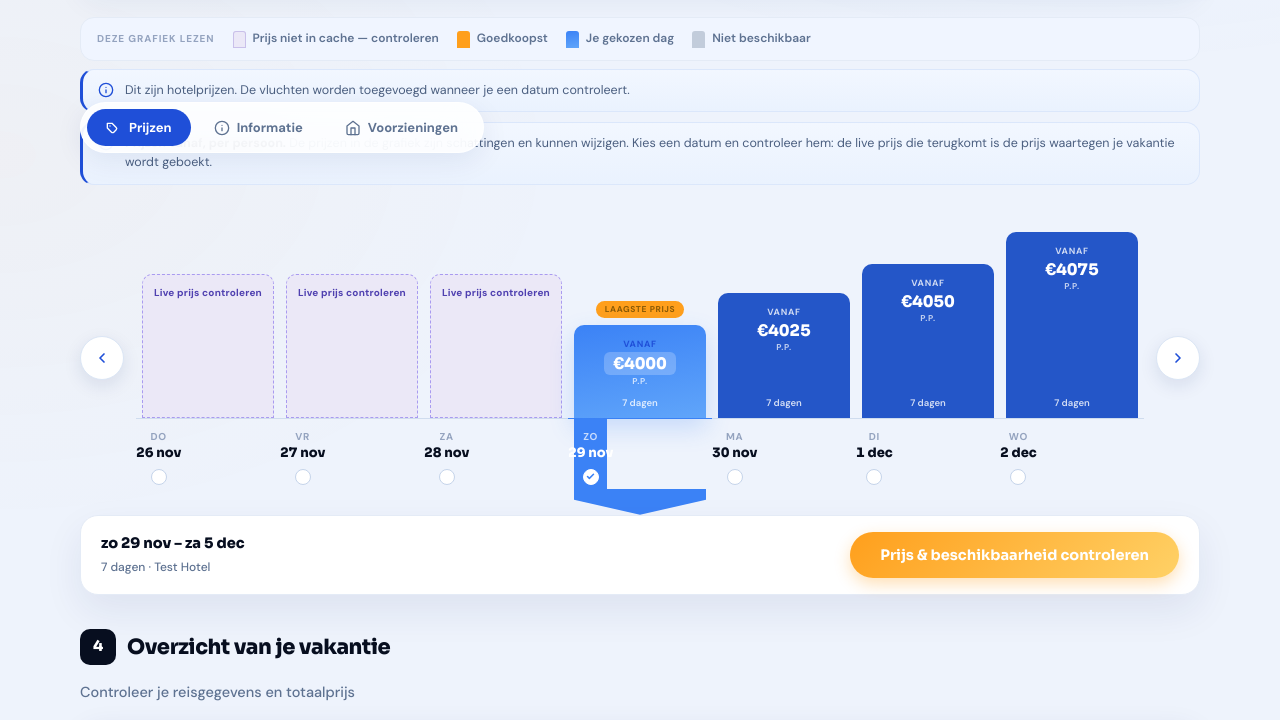
Scenario: trip length is stated in days, never in nights › keeps it in days on the availability card and the price basis
The width and height of the screenshot is (1280, 720).
(page scrolled)
Click the button "Laagste prijs vanaf €4000 p.p. 7 dagen zo 29 nov".
click(640, 361)  # box [568,207,712,515]
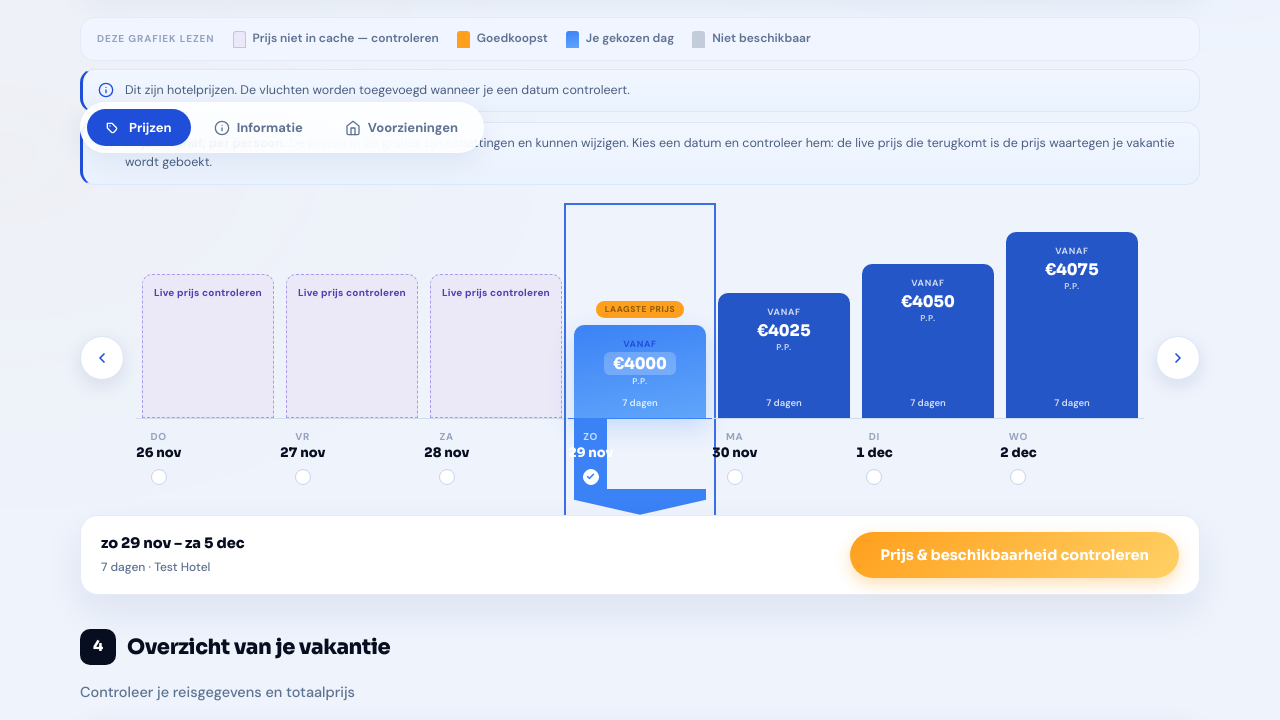
Click the button "Prijs & beschikbaarheid controleren".
click(1015, 555)  # box [850,532,1179,578]
(page scrolled)
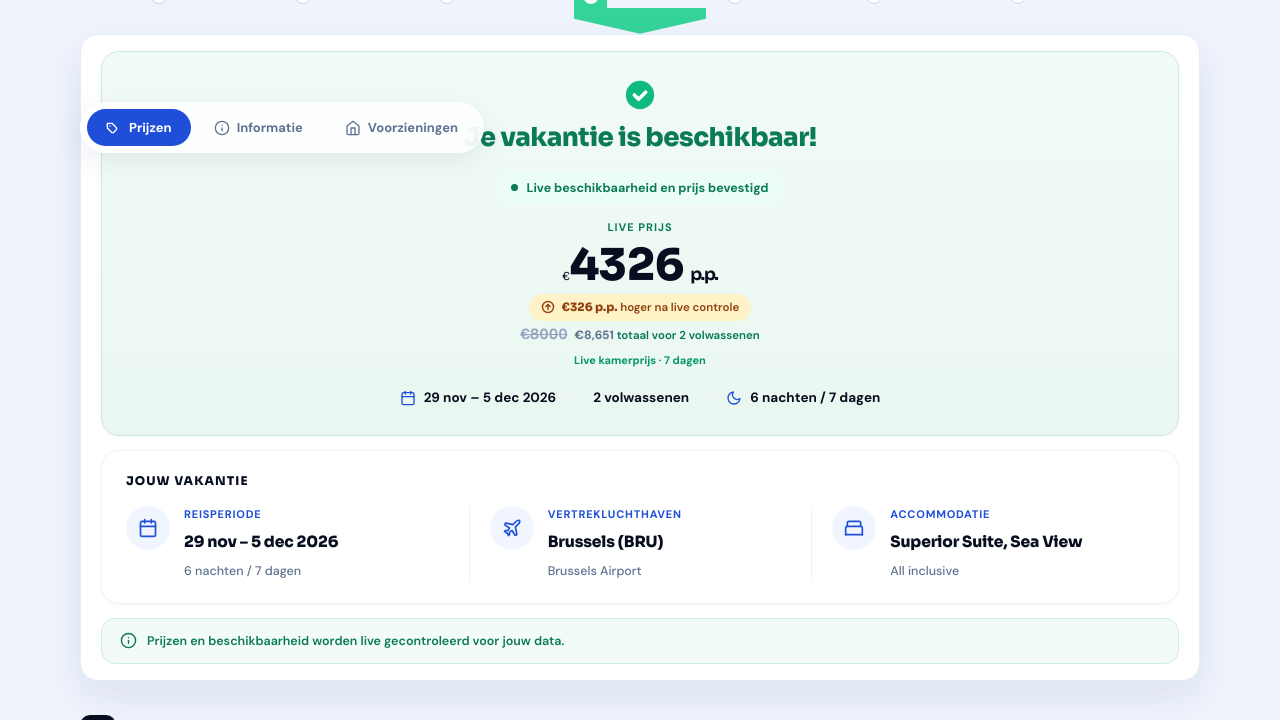
Expected: the element with class "av-facts" shows "7 dagen", [750,389,880,406]
Expected: the text with class "avail-you-low" shows "7 dagen", [574,353,706,367]
